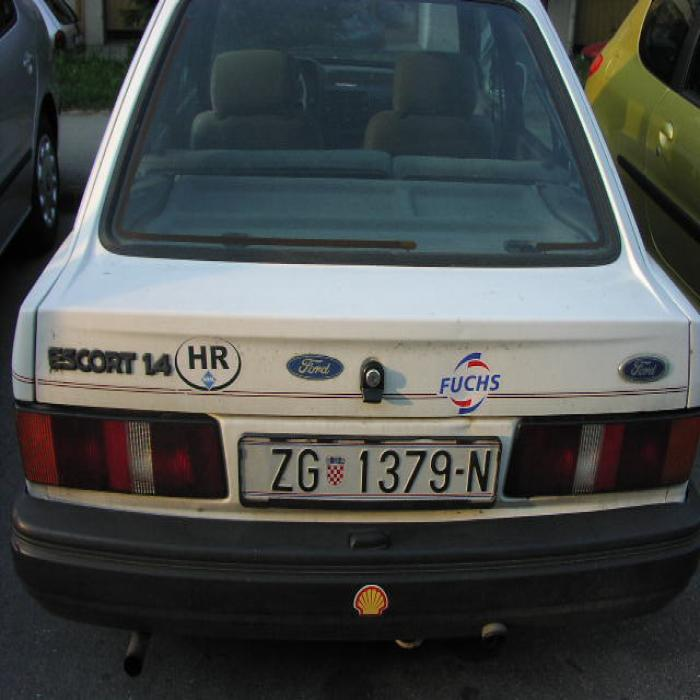number_plate: (242, 439, 493, 494)
